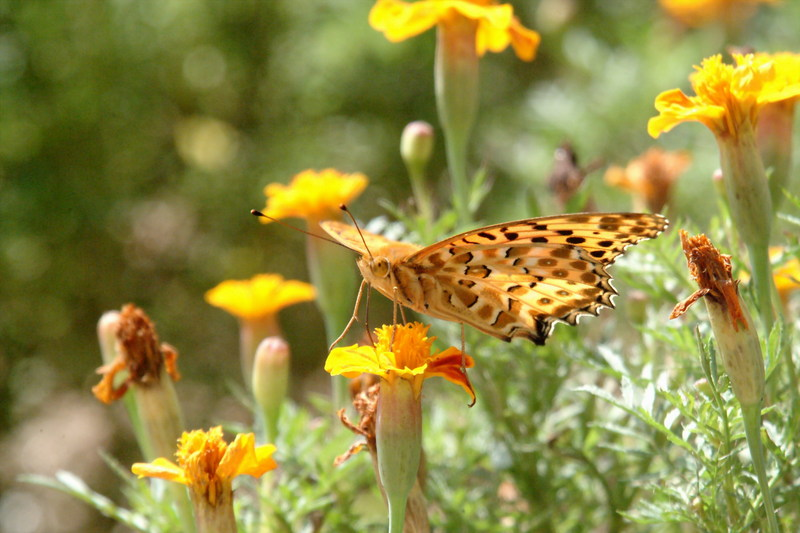Argyreus hyperbius: (238, 196, 675, 411)
butterfly: (240, 198, 677, 413)
